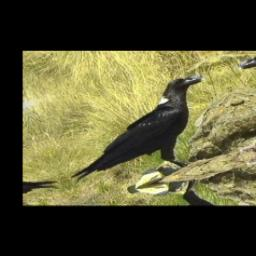Crow: (37, 71, 245, 199)
